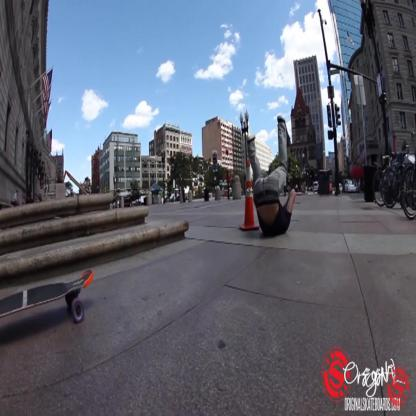Fall_Down: (247, 113, 297, 237)
